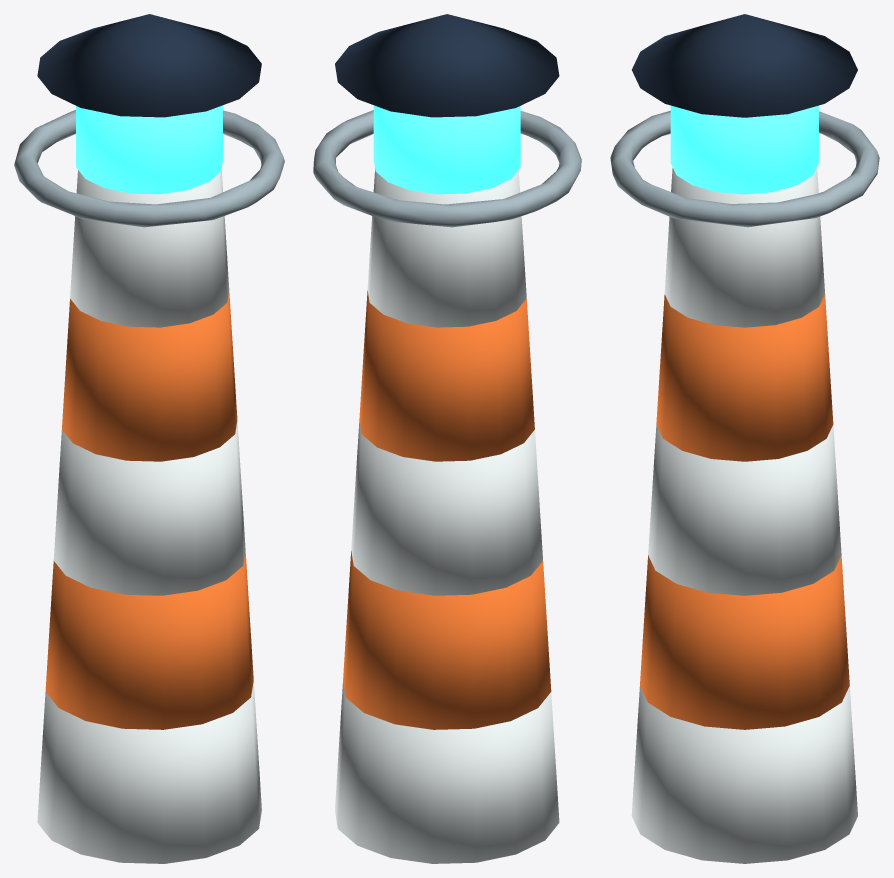
Rendered from Lighthouse_LOD1.glb.
The picture shows the model from 3 angles, left to right: view 1: azimuth 30°, elevation 25°; view 2: azimuth 150°, elevation 25°; view 3: azimuth 270°, elevation 25°; orthographic projection.
Visible parts, largest first — view 1: Painted tower, Painted tower.001, Painted tower.002, Painted tower.003, Painted tower.004, Roof, Lantern, Gallery; view 2: Painted tower, Painted tower.001, Painted tower.002, Painted tower.003, Painted tower.004, Roof, Lantern, Gallery; view 3: Painted tower, Painted tower.001, Painted tower.002, Painted tower.003, Painted tower.004, Roof, Lantern, Gallery.
Boxes of the visible parts, x1,y1,x2,y2 form: Painted tower: [37, 681, 261, 863]; Painted tower.001: [45, 551, 253, 729]; Painted tower.002: [53, 421, 245, 595]; Painted tower.003: [62, 290, 237, 461]; Painted tower.004: [70, 170, 229, 327]; Roof: [37, 14, 261, 117]; Lantern: [76, 105, 222, 194]; Gallery: [14, 110, 284, 227]; Painted tower: [335, 681, 559, 863]; Painted tower.001: [343, 551, 551, 729]; Painted tower.002: [351, 420, 542, 595]; Painted tower.003: [359, 290, 534, 461]; Painted tower.004: [367, 169, 526, 327]; Roof: [335, 14, 559, 117]; Lantern: [373, 105, 520, 194]; Gallery: [313, 110, 581, 227]; Painted tower: [631, 686, 857, 863]; Painted tower.001: [640, 555, 849, 729]; Painted tower.002: [648, 425, 841, 595]; Painted tower.003: [656, 294, 833, 461]; Painted tower.004: [664, 167, 824, 327]; Roof: [632, 14, 857, 117]; Lantern: [670, 105, 818, 194]; Gallery: [610, 111, 879, 227].
Size of the model in its own units: 1.31 by 4.3 by 1.31.
